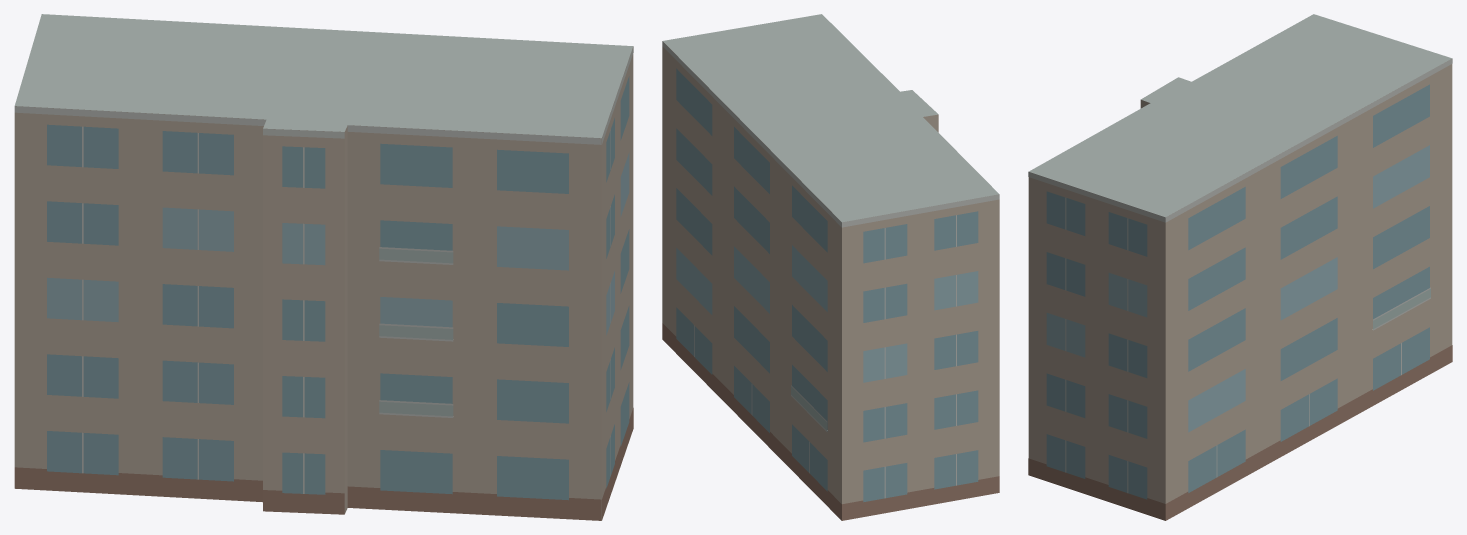
The model's file is survey-upis-32630892.glb.
3 views of the same model, side by side, from view 1: azimuth 30°, elevation 25°; view 2: azimuth 150°, elevation 25°; view 3: azimuth 270°, elevation 25° (orthographic). The views are drawn at different scales.
Visible parts, largest first — view 1: survey-upis-32630892.tmp; view 2: survey-upis-32630892.tmp; view 3: survey-upis-32630892.tmp.
Part boxes in pixels (left/top/right/bottom): survey-upis-32630892.tmp: left=14, top=14, right=633, bottom=520; survey-upis-32630892.tmp: left=662, top=14, right=999, bottom=520; survey-upis-32630892.tmp: left=1028, top=14, right=1452, bottom=520.
Bounding box in the file's own units: 20.05 × 13.95 × 17.67.
